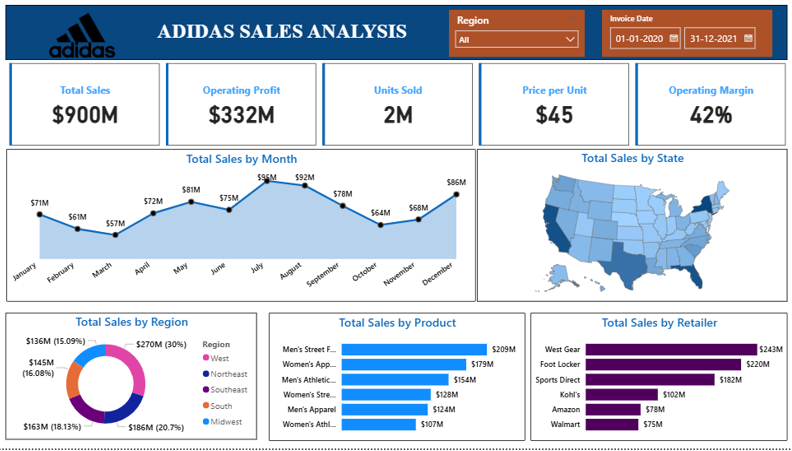

The dashboard page shown, as its layout file describes it:
{"tool":"powerbi","page":{"name":"Page 1","canvas":[1280,720],"ordinal":0},"visuals":[{"type":"shape","box":[17.3,14.4,1244.2,87.8],"z":0},{"type":"textbox","box":[168.5,33.1,496.8,50.4],"z":1000},{"type":"cardVisual","fields":{"Data":["Sum(Table1.Total Sales)","Sum(Table1.Operating Profit)","Sum(Table1.Units Sold)","Avg(Table1.Price per Unit)","Avg(Table1.Operating Margin)"]},"box":[17.9,101.9,1246,141.2],"z":2000},{"type":"areaChart","title":"Total Sales by Month","fields":{"Category":["Table1.Invoice Date.Variation.Date Hierarchy.Month"],"Y":["Sum(Table1.Total Sales)"]},"box":[17.9,243.1,747.3,243.1],"z":3000},{"type":"shapeMap","title":"Total Sales by State","fields":{"Category":["Table1.State"],"Value":["Sum(Table1.Total Sales)"]},"box":[767.5,243.4,493.9,243.4],"z":4000},{"type":"donutChart","fields":{"Category":["Table1.Region"],"Y":["Sum(Table1.Total Sales)"]},"box":[17.3,504,400.3,201.6],"z":5000},{"type":"barChart","title":"Total Sales by Product","fields":{"Category":["Table1.Product"],"Y":["Sum(Table1.Total Sales)"]},"box":[436.3,504,407.5,204.5],"z":6000},{"type":"barChart","title":"Total Sales by Retailer","fields":{"Y":["Sum(Table1.Total Sales)"],"Category":["Table1.Retailer"]},"box":[852.5,504,409,204.5],"z":7000},{"type":"slicer","title":"Region","fields":{"Values":["Table1.Region"]},"box":[722.9,21.6,216,74.9],"z":8000},{"type":"slicer","title":"Region","fields":{"Values":["Table1.Invoice Date"]},"box":[966.2,21.6,270.7,74.9],"z":9000},{"type":"image","box":[61.9,21.6,155.5,80.6],"z":10000}]}

Visuals, with their boxes in screenshot pixels (x1, y1, x2, y2), scaled from the page's 1280x720 canvas onto the 792x451 screenshot:
shape: [x1=11, y1=9, x2=781, y2=64]
textbox: [x1=104, y1=21, x2=412, y2=52]
cardVisual - Sum(Table1.Total Sales) x Sum(Table1.Operating Profit): [x1=11, y1=64, x2=782, y2=152]
"Total Sales by Month" areaChart: [x1=11, y1=152, x2=473, y2=305]
"Total Sales by State" shapeMap: [x1=475, y1=152, x2=780, y2=305]
donutChart - Table1.Region x Sum(Table1.Total Sales): [x1=11, y1=316, x2=258, y2=442]
"Total Sales by Product" barChart: [x1=270, y1=316, x2=522, y2=444]
"Total Sales by Retailer" barChart: [x1=527, y1=316, x2=781, y2=444]
"Region" slicer: [x1=447, y1=14, x2=581, y2=60]
"Region" slicer: [x1=598, y1=14, x2=765, y2=60]
image: [x1=38, y1=14, x2=135, y2=64]
